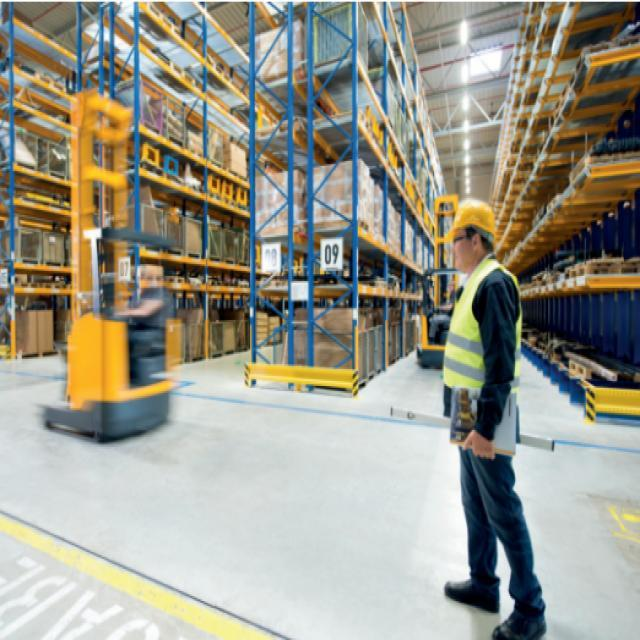helmet: (438, 259, 526, 444), (437, 570, 548, 640), (435, 200, 500, 275)
